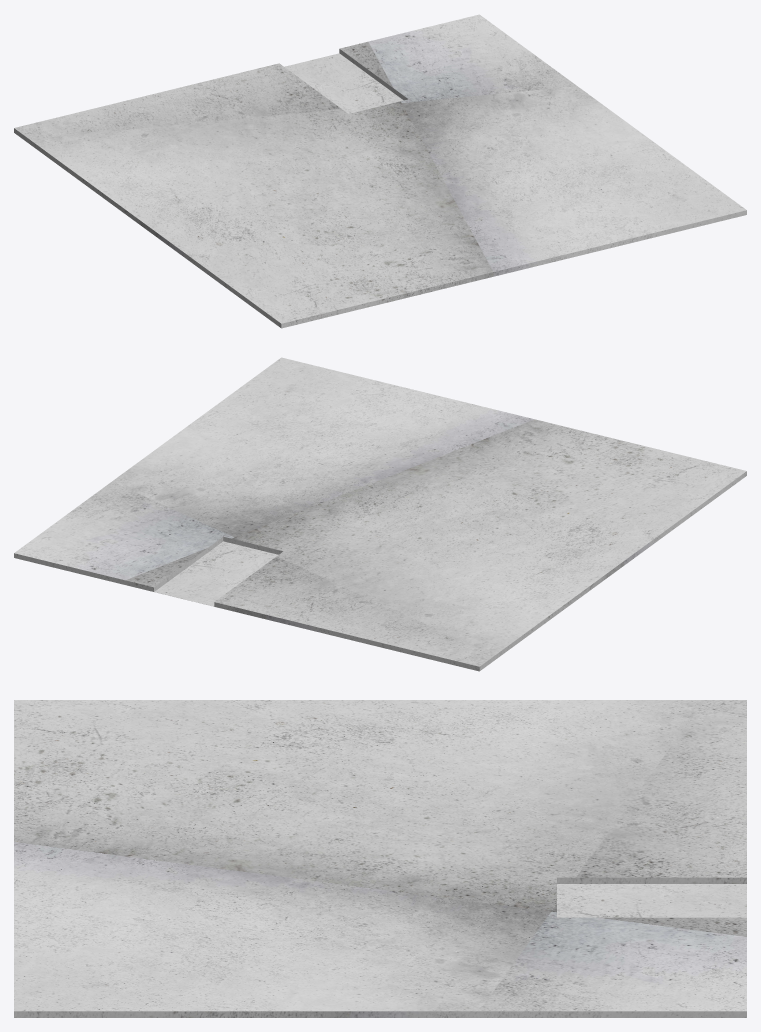
The model's file is Betonboden.obj.
3 views of the same model, one above another, from view 1: azimuth 30°, elevation 25°; view 2: azimuth 150°, elevation 25°; view 3: azimuth 270°, elevation 25° (orthographic). The views are drawn at different scales.
Parts seen in each view (by area): view 1: Mesh1 Component_10 G_1_Betonboden_dwg1 Model; view 2: Mesh1 Component_10 G_1_Betonboden_dwg1 Model; view 3: Mesh1 Component_10 G_1_Betonboden_dwg1 Model.
Boxes of the visible parts, left/top/right/bottom form: Mesh1 Component_10 G_1_Betonboden_dwg1 Model: left=14, top=14, right=746, bottom=328; Mesh1 Component_10 G_1_Betonboden_dwg1 Model: left=14, top=357, right=746, bottom=671; Mesh1 Component_10 G_1_Betonboden_dwg1 Model: left=14, top=700, right=746, bottom=1017.
Bounding box in the file's own units: 731 × 7.1 × 727.
